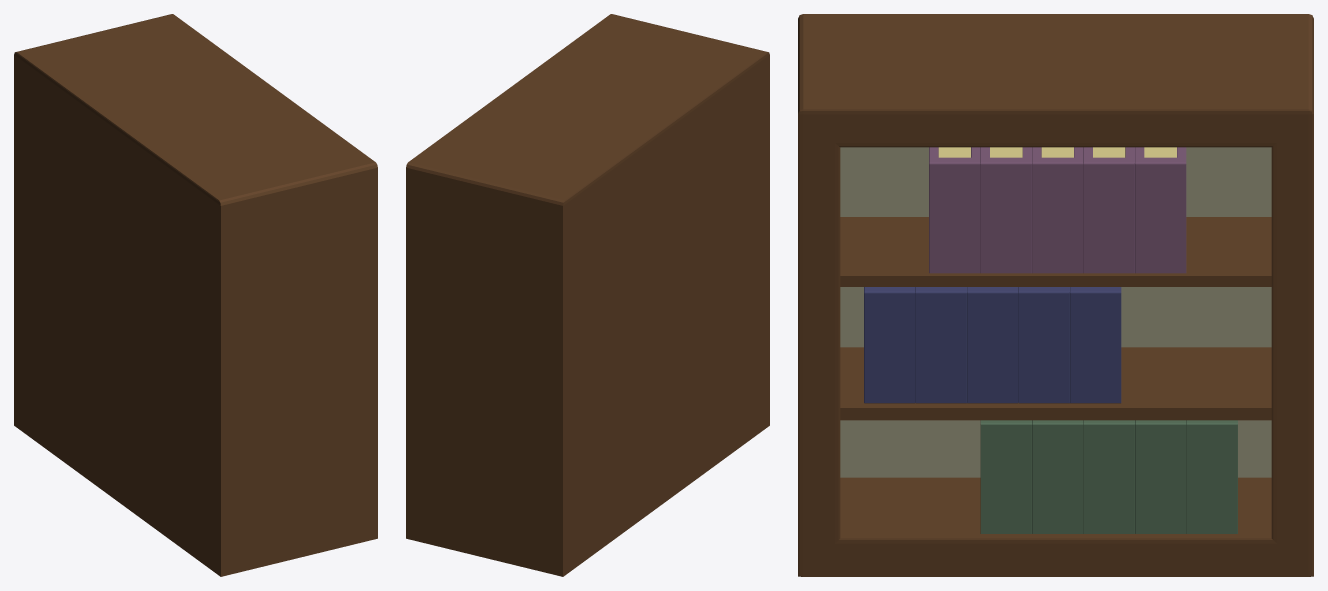
The model's file is bookshelf3.glb.
The picture shows the model from 3 angles, left to right: view 1: azimuth 30°, elevation 25°; view 2: azimuth 150°, elevation 25°; view 3: azimuth 270°, elevation 25°; orthographic projection. The views are drawn at different scales.
Parts seen in each view (by area): view 1: bookshelf3; view 2: bookshelf3; view 3: bookshelf3.
Boxes of the visible parts, x1=… form: bookshelf3: x1=14, y1=14, x2=377, y2=576; bookshelf3: x1=406, y1=14, x2=769, y2=576; bookshelf3: x1=798, y1=14, x2=1313, y2=576.
Size of the model in its own units: 0.8804 by 2 by 2.
